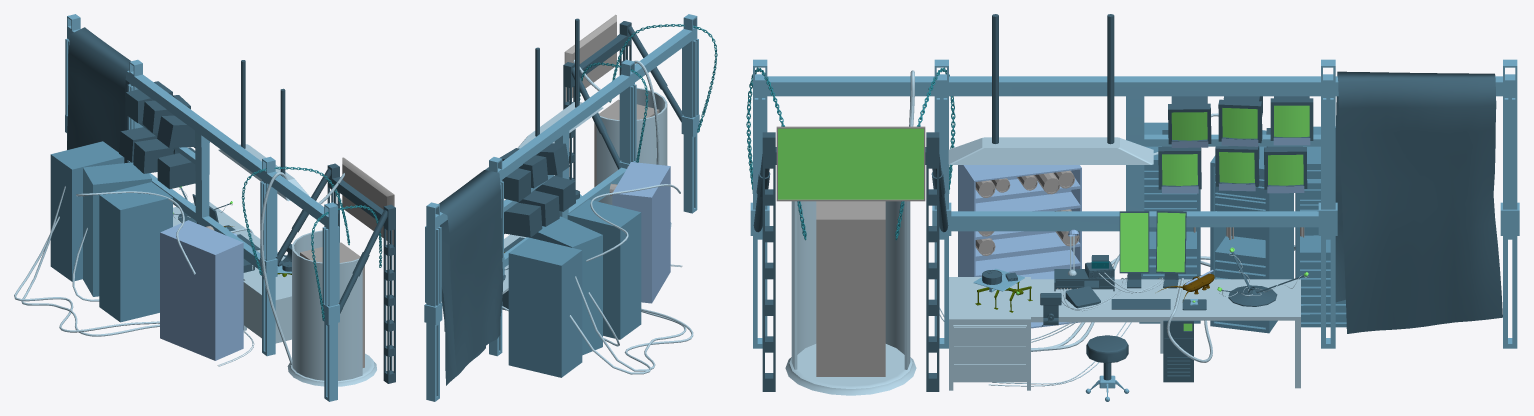
Rendered from Workshop_1.fbx.
3 views of the same model, side by side, from view 1: azimuth 30°, elevation 25°; view 2: azimuth 150°, elevation 25°; view 3: azimuth 270°, elevation 25° (orthographic). The views are drawn at different scales.
Parts seen in each view (by area): view 1: Workshop_1_op; view 2: Workshop_1_op; view 3: Workshop_1_op.
Part boxes in pixels (<box>): Workshop_1_op: <box>14,14,395,401</box>; Workshop_1_op: <box>424,14,717,401</box>; Workshop_1_op: <box>746,14,1519,401</box>.
Bounding box in the file's own units: 373 × 396 × 781.
